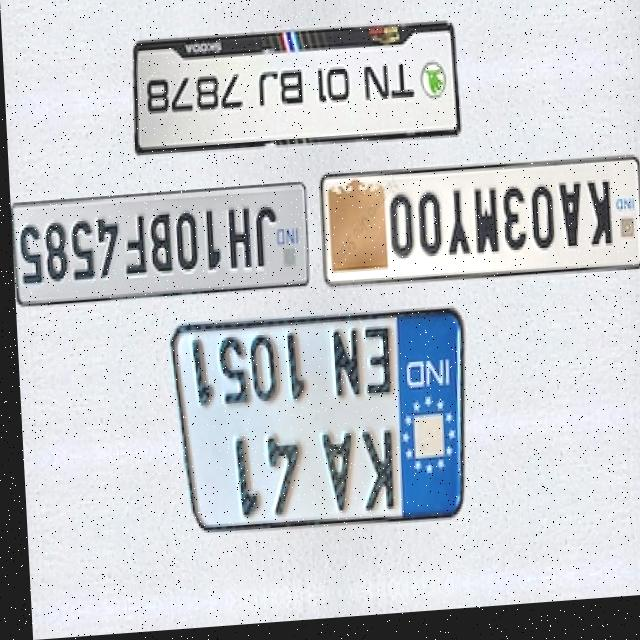plate: (163, 307, 469, 546), (128, 21, 461, 165), (316, 157, 640, 302), (8, 181, 313, 315)
